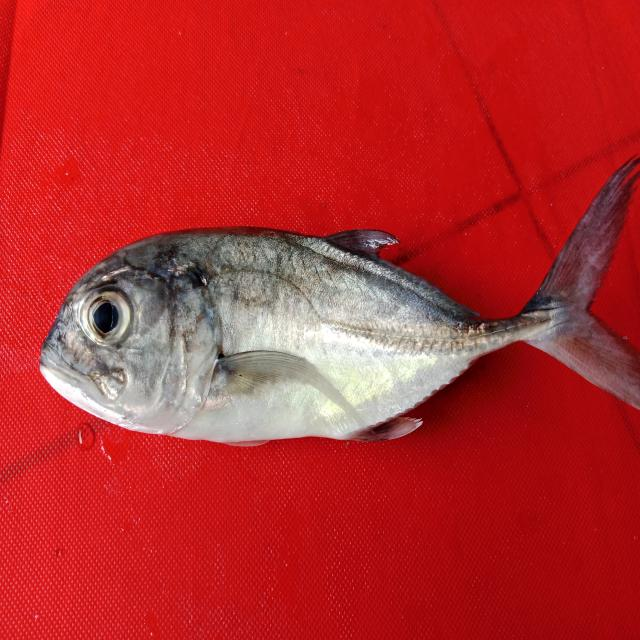ikan: (24, 163, 633, 452)
